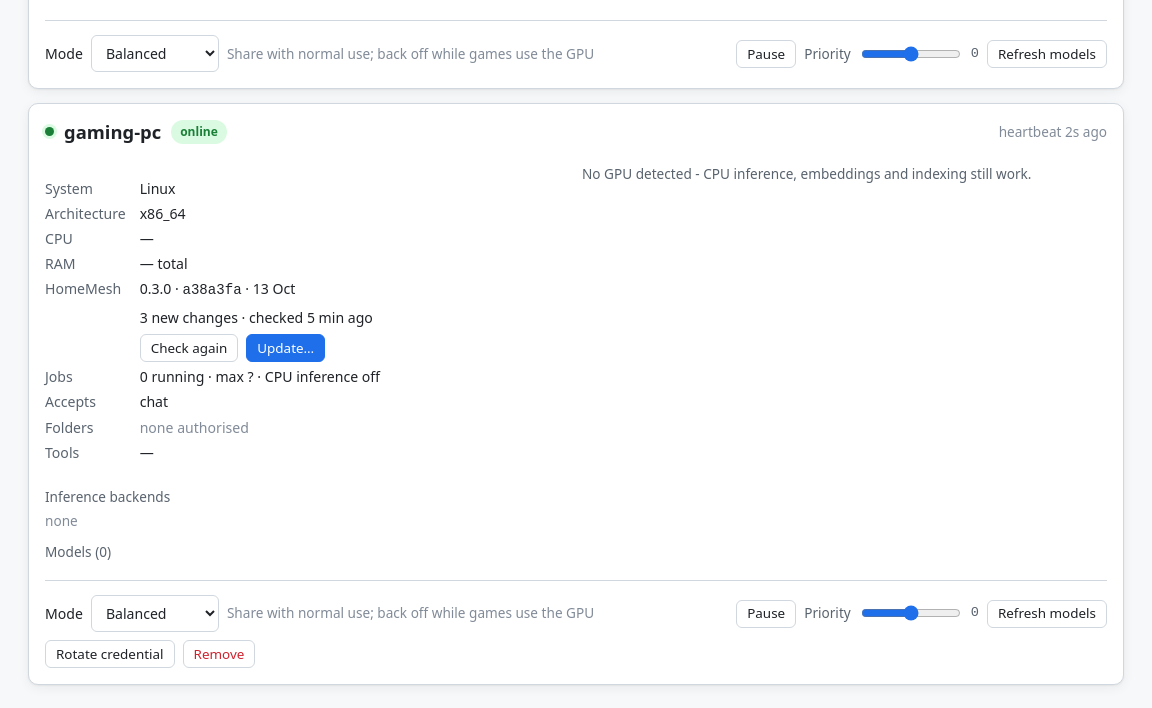
Test case: Computers page with updates › opens the confirm dialog from Update… and sends the commit the check showed
(page scrolled)
Step 1. Click the button "Update…" → [286, 348], box [246, 334, 325, 362]
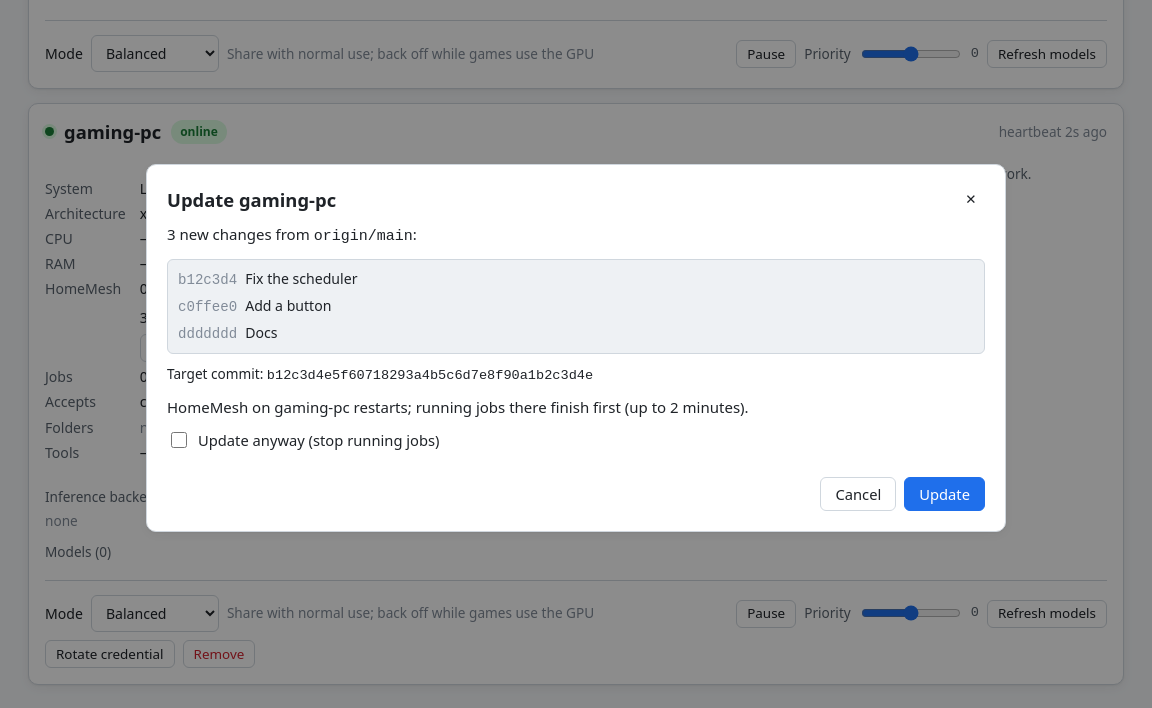
Step 2. Click the button "Update" → [945, 494], box [904, 477, 985, 511]
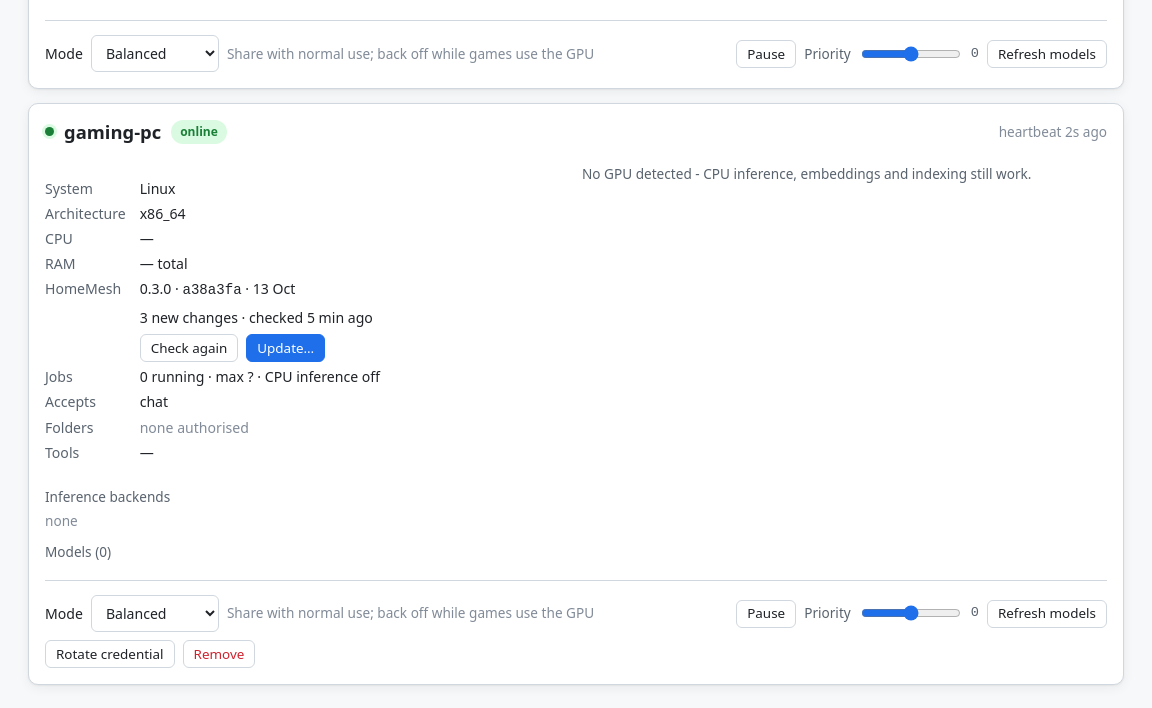
Result: the dialog is gone
